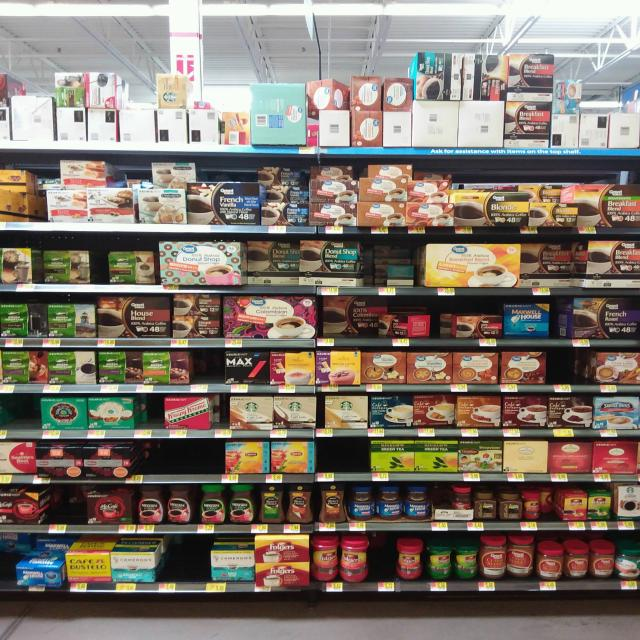void: (139, 442, 217, 474), (168, 536, 204, 582), (320, 438, 362, 472), (550, 351, 591, 382), (3, 395, 34, 431)
